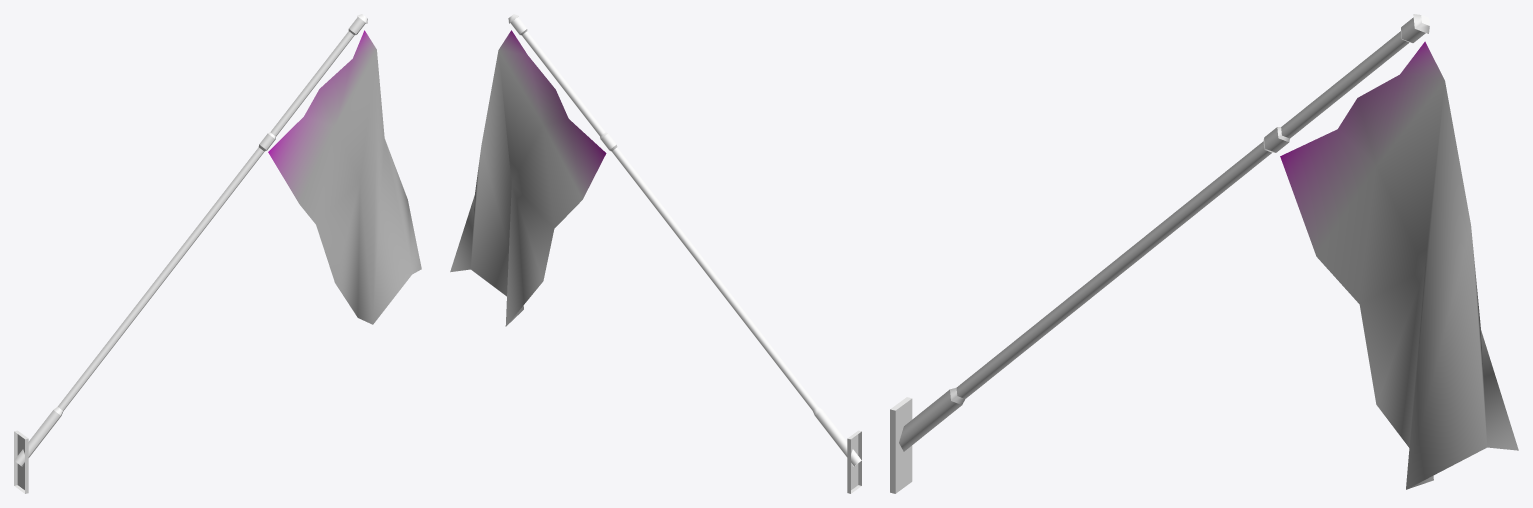
File: Flag.FBX
3 renders of one model, left to right at view 1: azimuth 30°, elevation 25°; view 2: azimuth 150°, elevation 25°; view 3: azimuth 330°, elevation 25°, orthographic. The views are drawn at different scales.
Visible parts, largest first — view 1: Flag; view 2: Flag; view 3: Flag.
Part boxes in pixels (<box>): Flag: <box>14,14,421,493</box>; Flag: <box>450,14,861,493</box>; Flag: <box>890,14,1518,493</box>.
Size of what is drawn, in the model's own units: 374 by 343 by 26.58.
